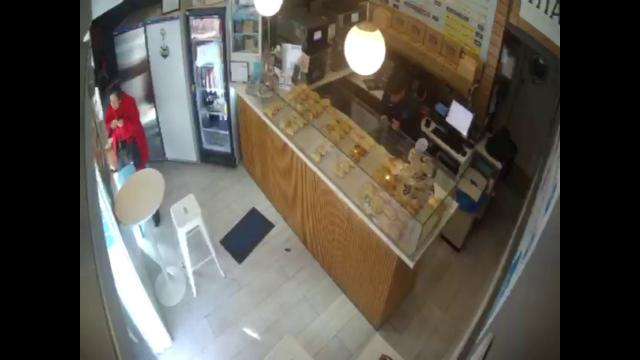cliente: (104, 83, 148, 170)
empleado: (379, 66, 422, 146)
